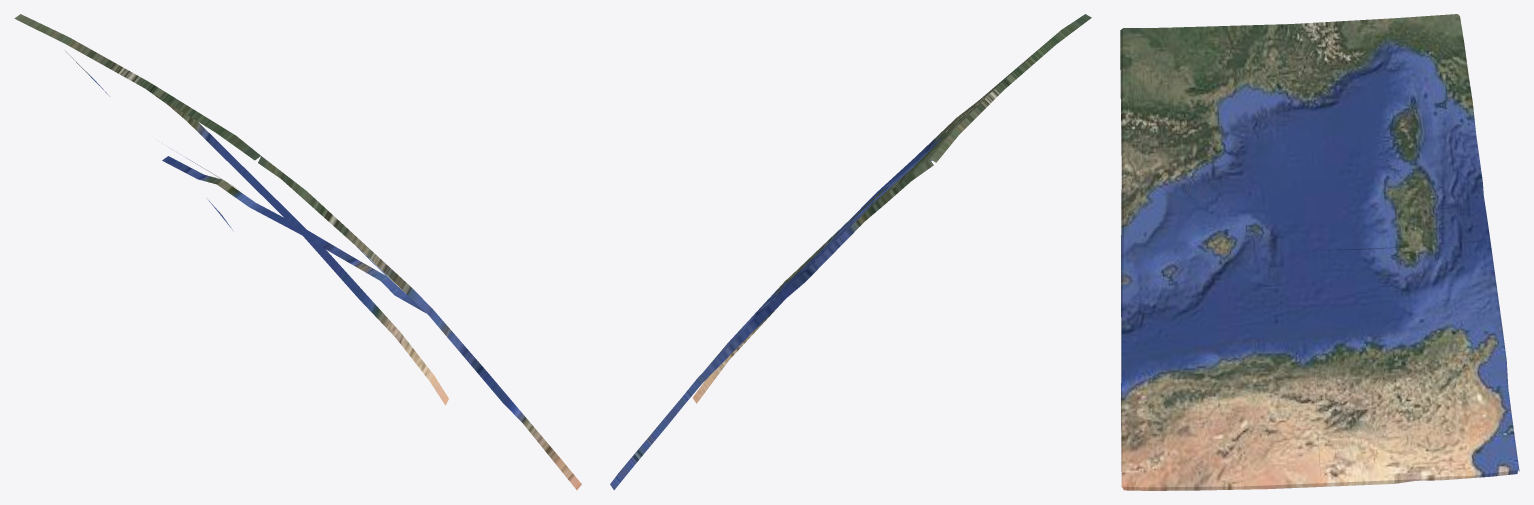
3 renders of one model, left to right at view 1: azimuth 30°, elevation 25°; view 2: azimuth 150°, elevation 25°; view 3: azimuth 270°, elevation 25°, orthographic. The views are drawn at different scales.
Bounding box in the file's own units: 900412 × 983820 × 1053056.
1 material, 1 textured.
